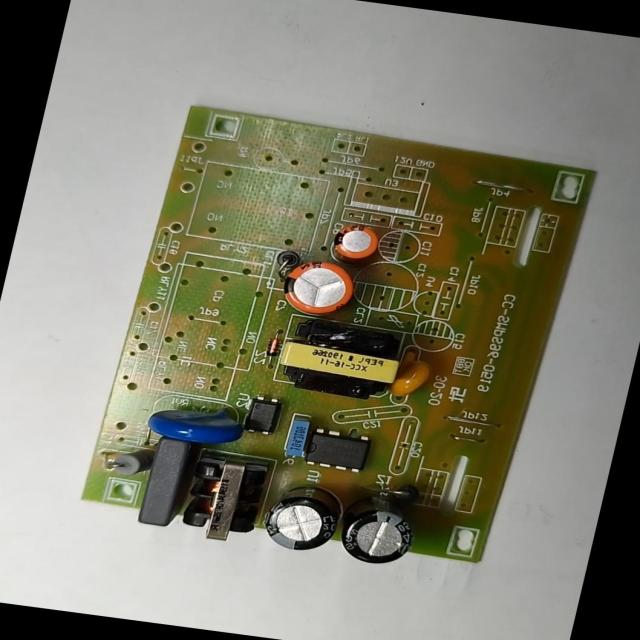Cap1: (279, 255, 357, 318)
Cap2: (328, 224, 380, 261)
Cap3: (256, 478, 349, 557)
Cap4: (337, 489, 425, 569)
MOSFET: (302, 425, 370, 474)
Mov: (142, 396, 249, 448)
Resistor: (105, 441, 154, 478)
Transformer: (275, 314, 407, 404), (177, 451, 269, 546)
